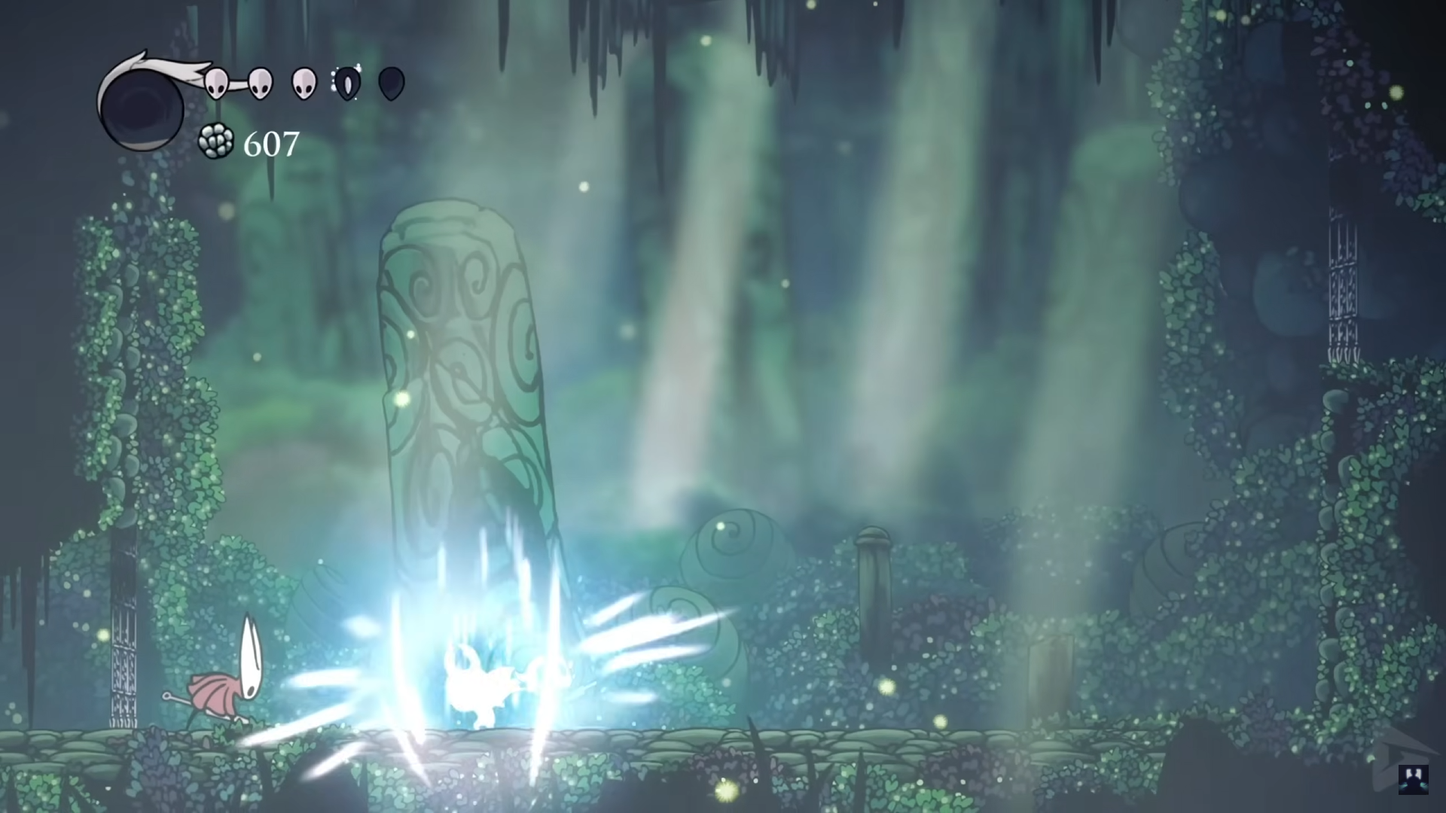HK: (431, 632, 525, 738)
